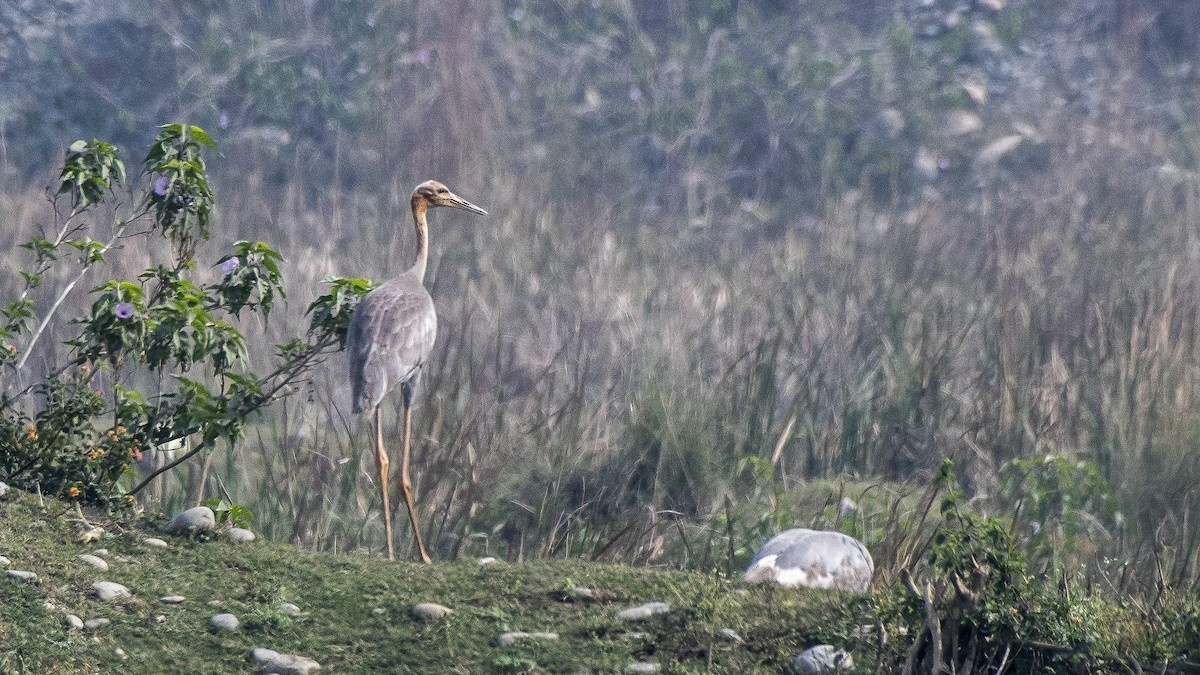crane: (341, 174, 496, 558)
